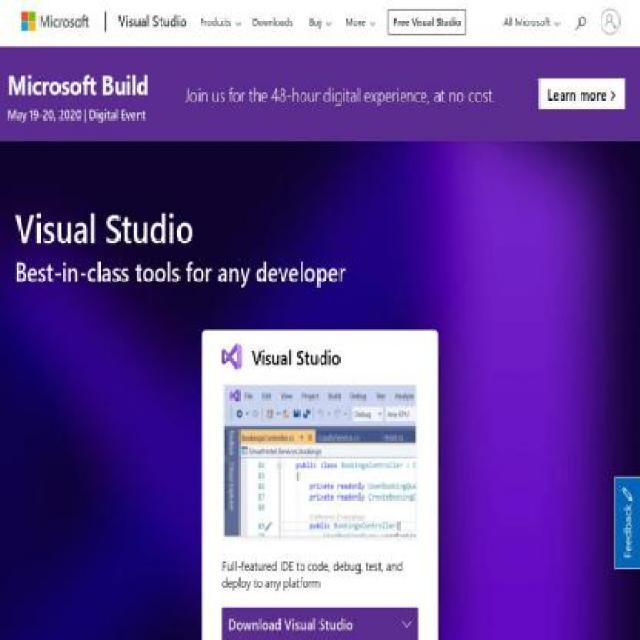button: (222, 607, 418, 639), (222, 343, 340, 383), (112, 1, 191, 45), (494, 1, 563, 42), (538, 78, 624, 110), (191, 1, 251, 42), (247, 1, 299, 41), (388, 10, 466, 36), (338, 1, 385, 42), (302, 1, 342, 42), (568, 2, 592, 41), (572, 424, 576, 448)
